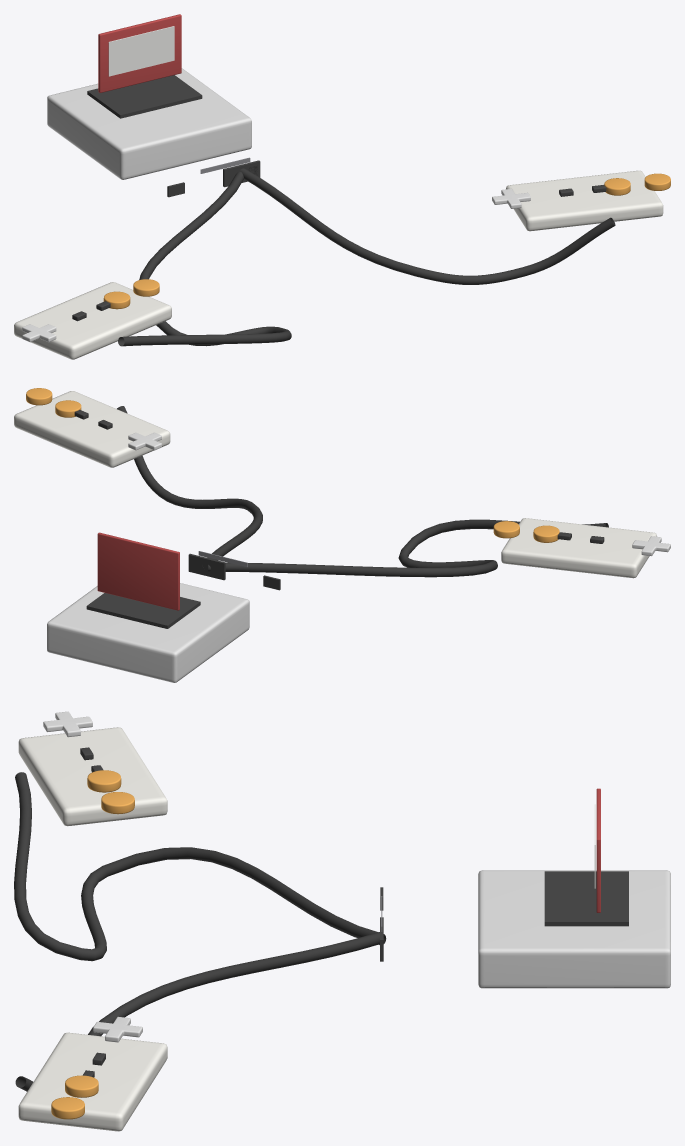
File: 06_PCEngine.glb
The picture shows the model from 3 angles, top to bottom: view 1: azimuth 30°, elevation 25°; view 2: azimuth 150°, elevation 25°; view 3: azimuth 270°, elevation 25°; orthographic projection. The views are drawn at different scales.
Parts seen in each view (by area): view 1: PCE_Body, Ctrl2_Body, Ctrl1_Body, Cable2, Cable1, HuCard, SlotInner, CardLabel; view 2: PCE_Body, Ctrl1_Body, Ctrl2_Body, HuCard, Cable1, Cable2, SlotInner, Port, Ctrl2_DH, Ctrl1_DH; view 3: PCE_Body, Ctrl1_Body, Ctrl2_Body, Cable1, SlotInner, Cable2, Ctrl1_DH, Ctrl2_DH, Ctrl1_II, Ctrl2_II, Ctrl1_I, Ctrl2_I (+1 smaller).
Boxes of the visible parts, <box> form: PCE_Body: <box>47,68,251,179</box>; Ctrl2_Body: <box>506,170,663,231</box>; Ctrl1_Body: <box>14,282,171,359</box>; Cable2: <box>239,168,615,284</box>; Cable1: <box>118,171,291,346</box>; HuCard: <box>98,14,181,92</box>; SlotInner: <box>87,75,202,118</box>; CardLabel: <box>108,26,174,76</box>; PCE_Body: <box>47,583,249,682</box>; Ctrl1_Body: <box>501,518,656,578</box>; Ctrl2_Body: <box>14,391,170,467</box>; HuCard: <box>97,532,179,610</box>; Cable1: <box>207,519,608,577</box>; Cable2: <box>117,406,262,567</box>; SlotInner: <box>86,593,200,628</box>; Port: <box>188,553,225,580</box>; Ctrl2_DH: <box>128,432,161,450</box>; Ctrl1_DH: <box>632,536,670,556</box>; PCE_Body: <box>478,870,670,988</box>; Ctrl1_Body: <box>18,727,167,826</box>; Ctrl2_Body: <box>18,1032,167,1131</box>; Cable1: <box>14,772,386,961</box>; SlotInner: <box>544,871,628,926</box>; Cable2: <box>15,932,384,1091</box>; Ctrl1_DH: <box>43,711,92,737</box>; Ctrl2_DH: <box>93,1016,142,1042</box>; Ctrl1_II: <box>87,770,121,792</box>; Ctrl2_II: <box>65,1075,98,1097</box>; Ctrl1_I: <box>101,792,134,814</box>; Ctrl2_I: <box>51,1097,84,1119</box>.
Size of the model in its own units: 3.95 by 0.8739 by 2.73.
